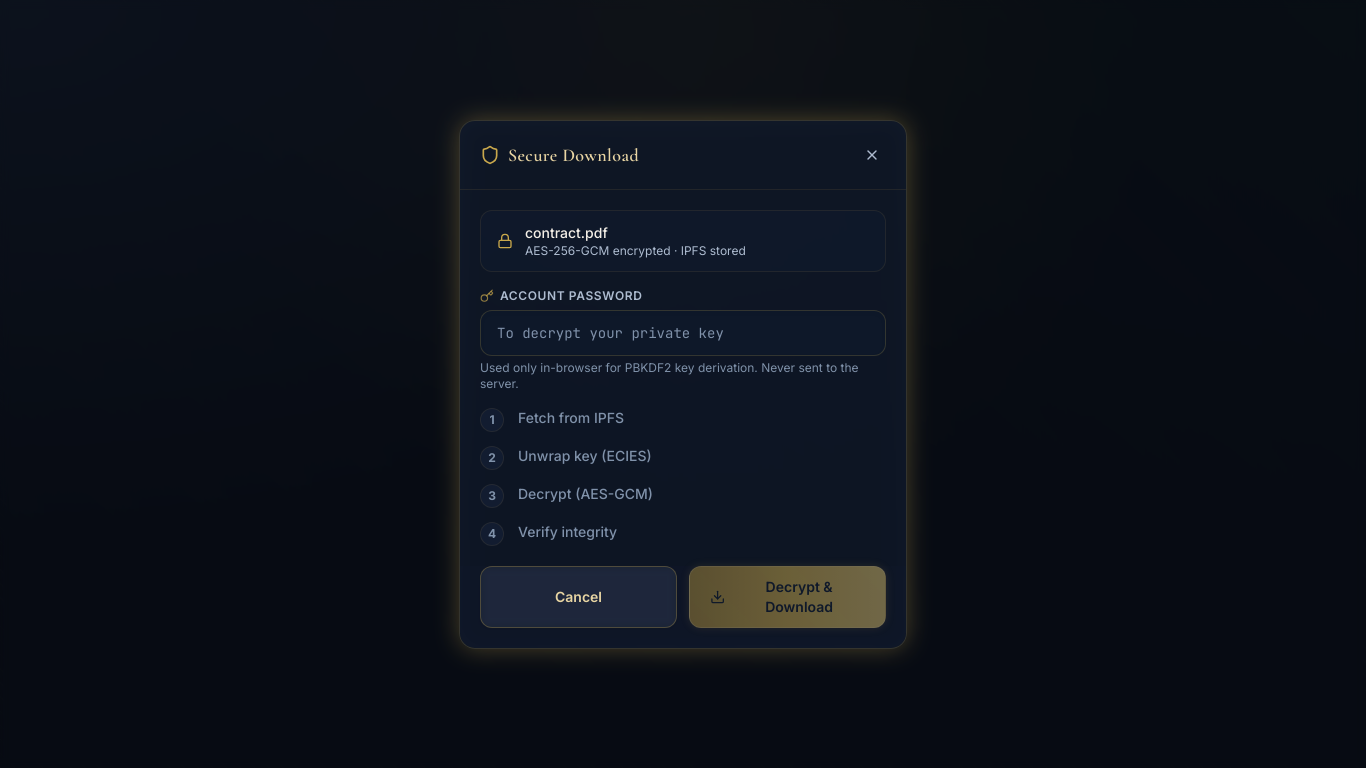
Scenario: SecureDownloadModal › on success: shows per-stage duration and auto-downloads
In the password field with placeholder "To decrypt your private key": x=683, y=332 [480, 310, 886, 356], type "pw"
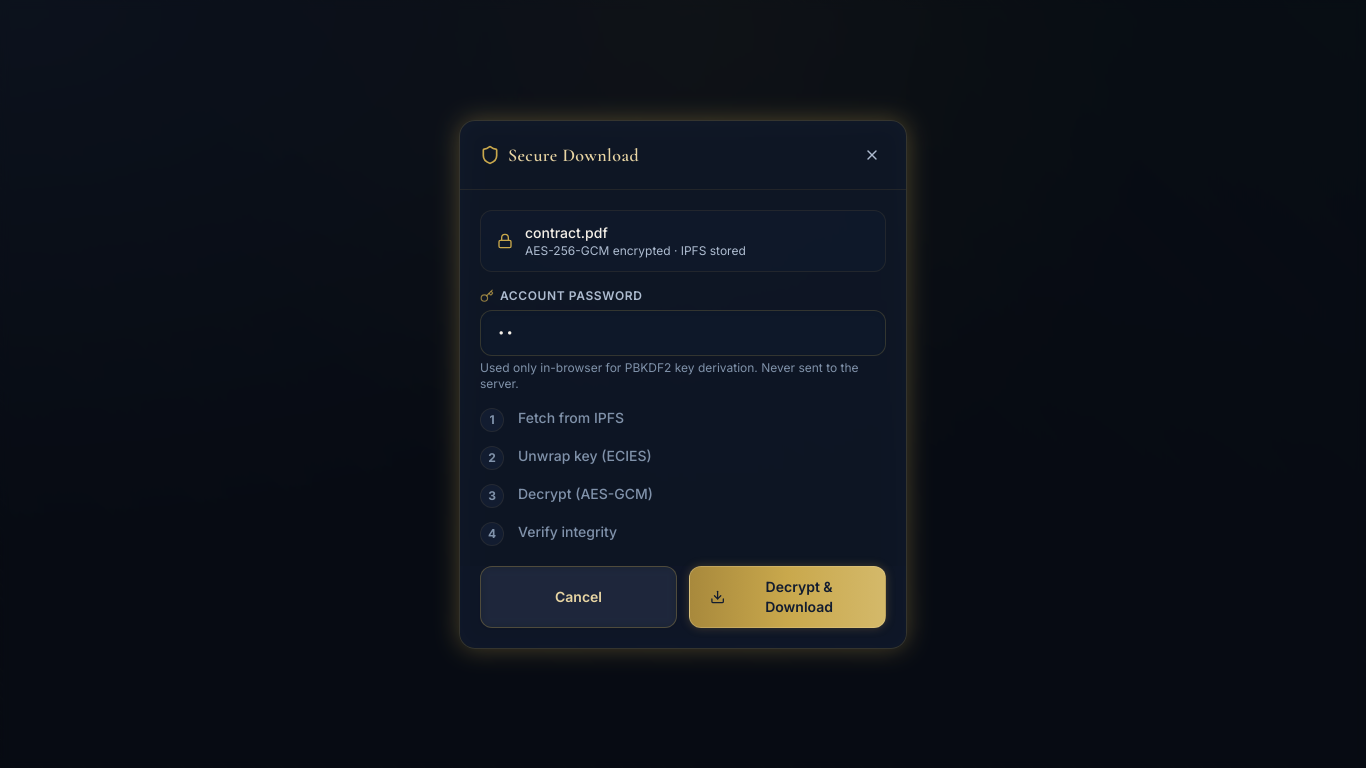
Click the button "Decrypt & Download": x=788, y=596 [689, 566, 886, 628]
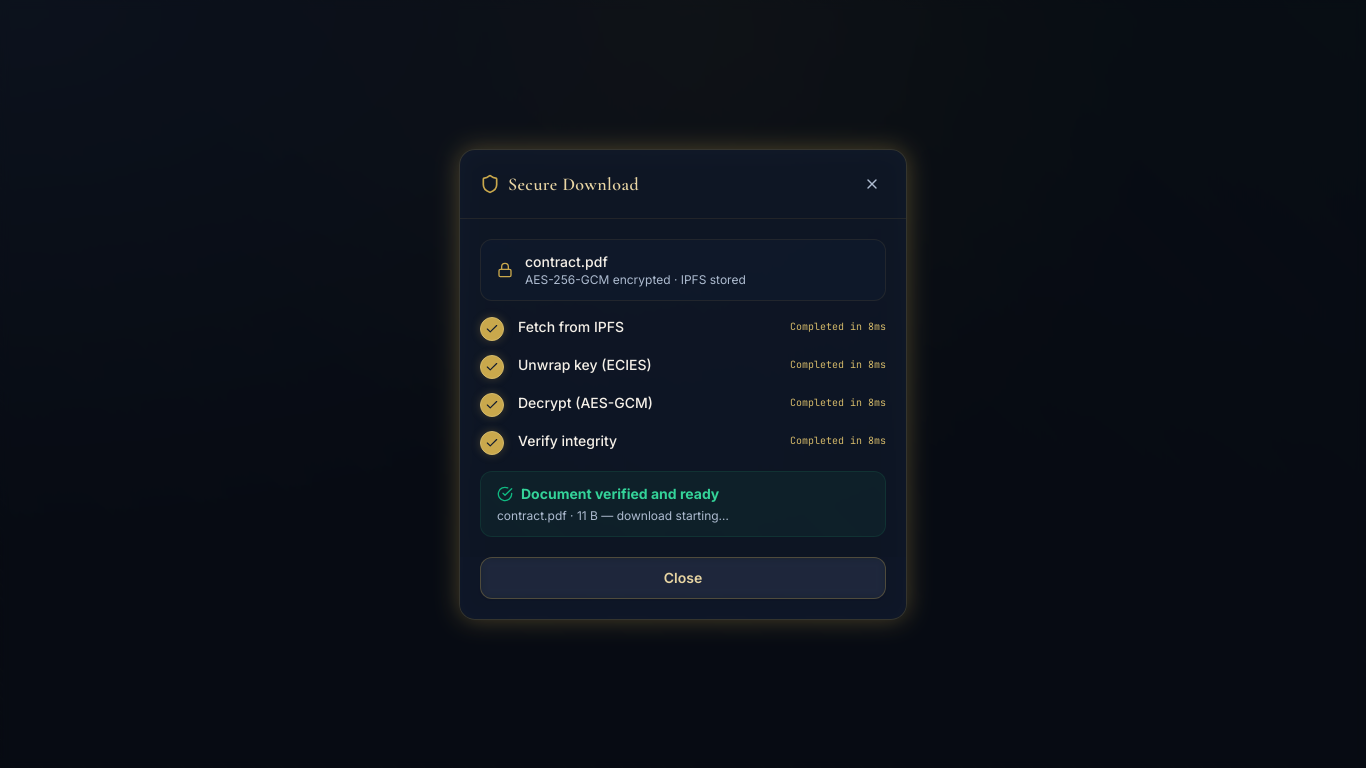
Now the text "Document verified and ready" is shown, box [497, 484, 719, 502]
Now the text "Completed in 8ms" in the row of "Fetch from IPFS" is shown, box [790, 319, 886, 334]
